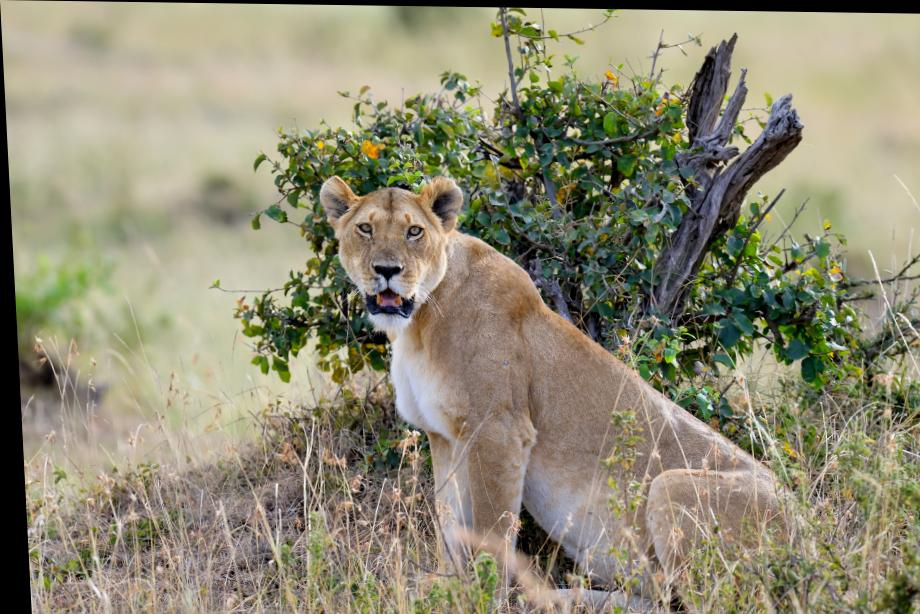lioness: (319, 178, 816, 614)
